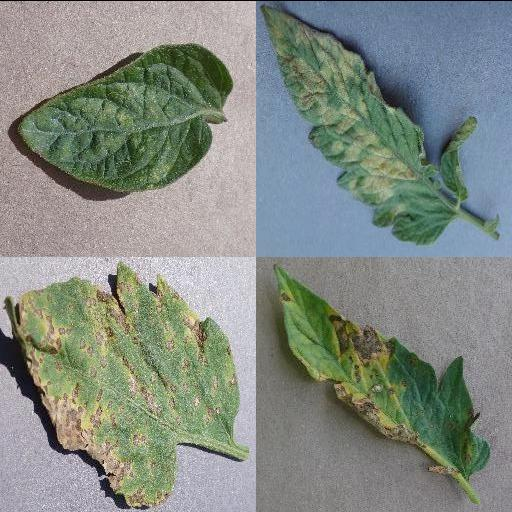Early Blight: (273, 264, 495, 474)
Leaf Mold: (259, 4, 477, 241)
Septoria: (4, 260, 238, 507)
Spider Mites: (18, 43, 234, 193)
